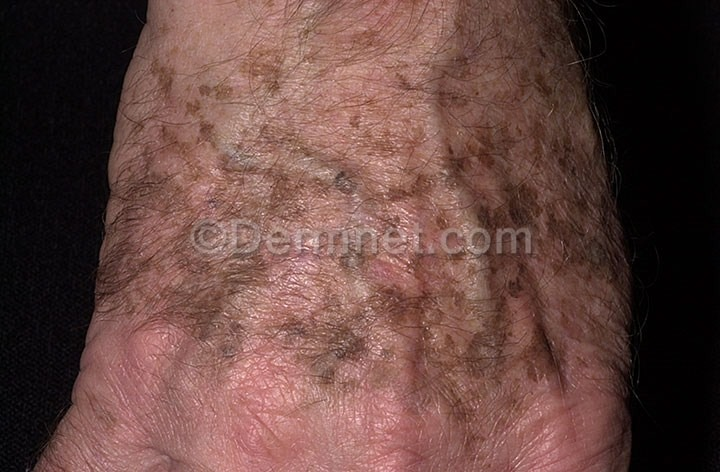Melasma: (467, 5, 602, 43)
